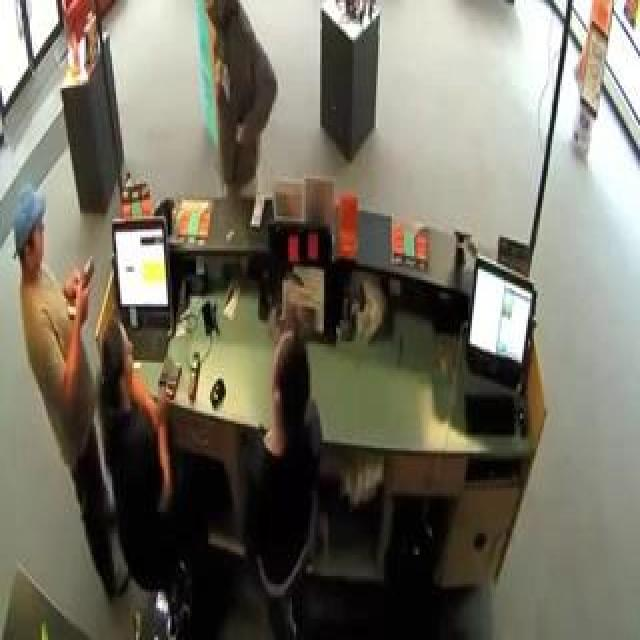high_con: (206, 0, 251, 38)
low_con: (7, 180, 53, 288)
no_con: (264, 323, 314, 437), (94, 329, 141, 418)
